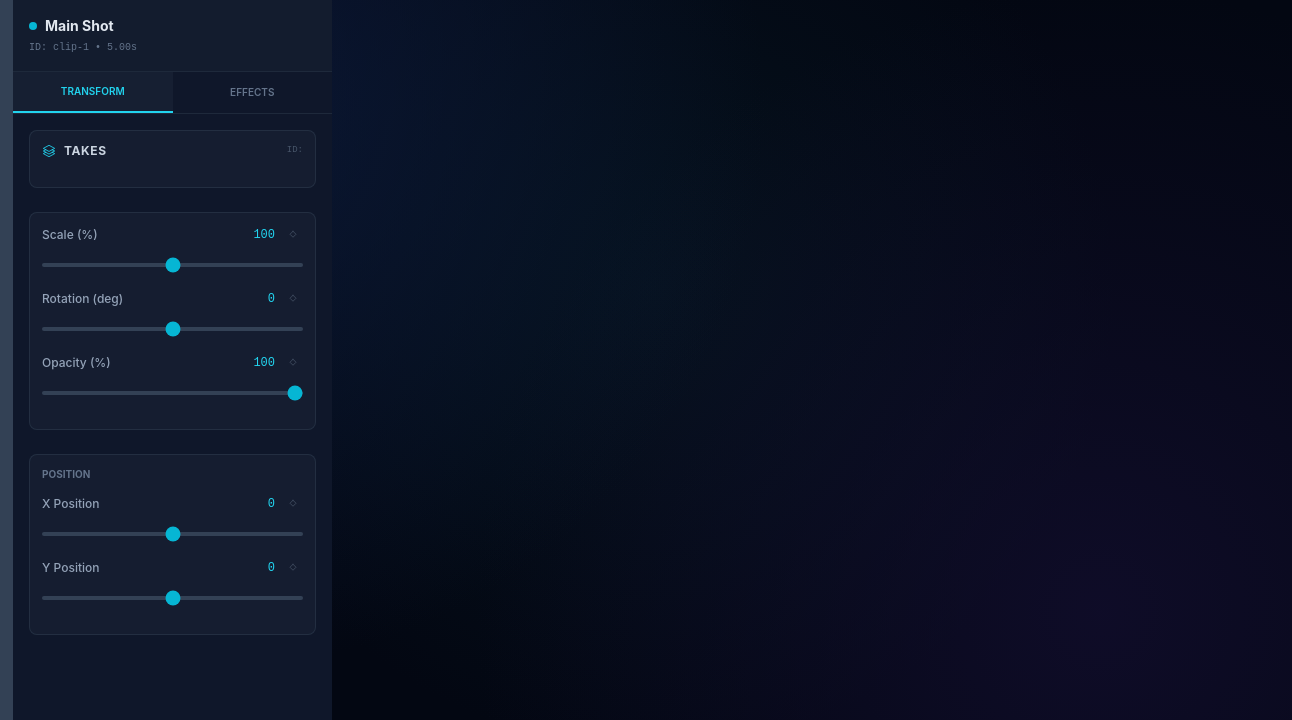
InspectorPanel › effects section › should display existing effects with controls
Click the tab "Effects". click: (252, 92)
box: [172, 72, 332, 113]
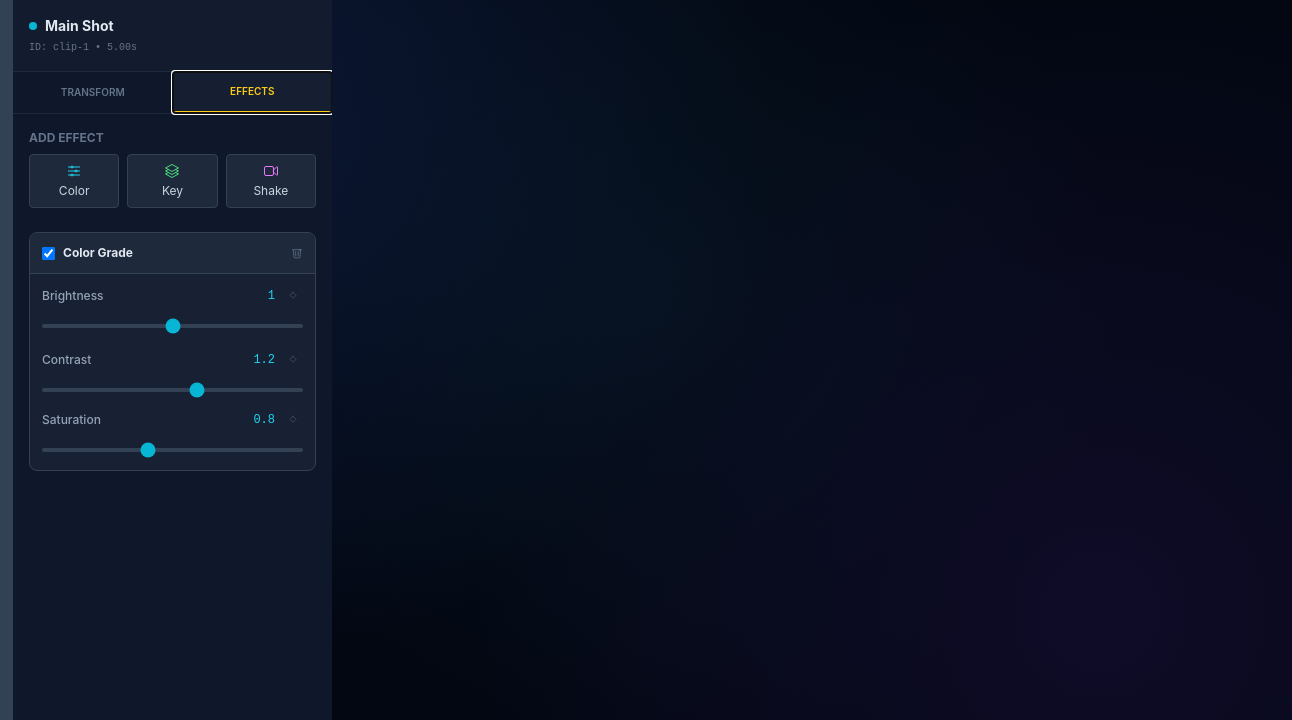
Check: the text "Color Grade" is shown, box [63, 245, 133, 261]
Check: the text "Brightness" is shown, box [42, 288, 104, 304]
Check: the text "Contrast" is shown, box [42, 352, 91, 368]
